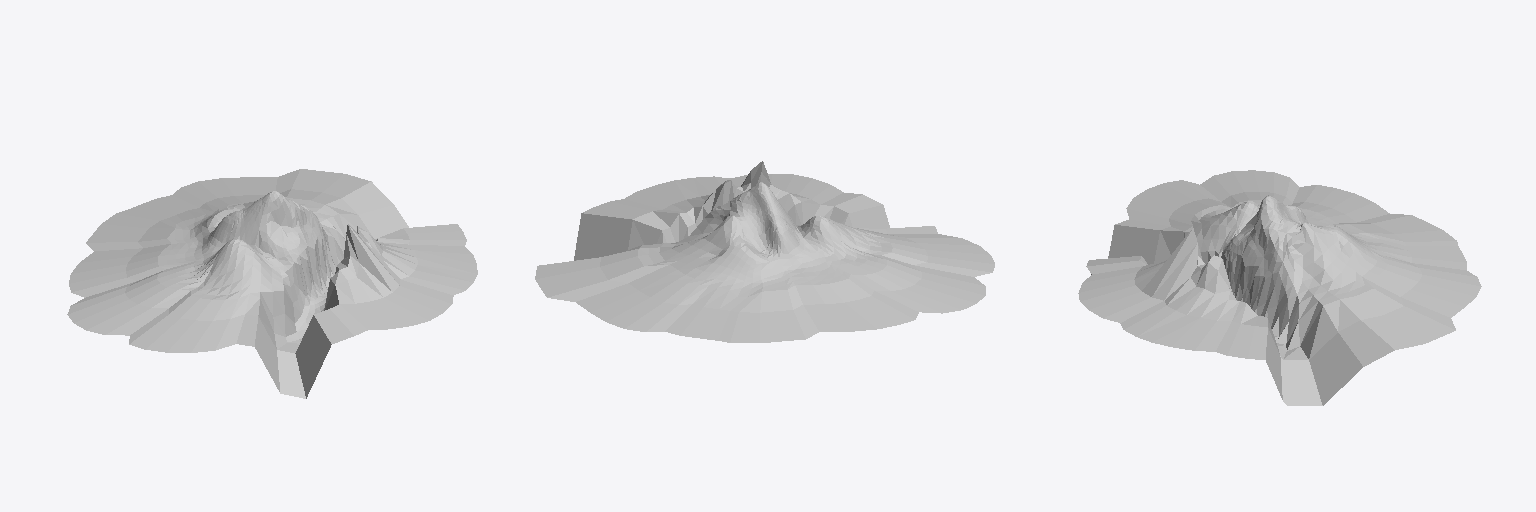
The model's file is island5.obj.
3 views of the same model, side by side, from view 1: azimuth 30°, elevation 25°; view 2: azimuth 150°, elevation 25°; view 3: azimuth 270°, elevation 25° (orthographic).
Parts seen in each view (by area): view 1: Icosphere; view 2: Icosphere; view 3: Icosphere.
Part boxes in pixels (left/top/right/bottom): Icosphere: left=67, top=169, right=477, bottom=398; Icosphere: left=535, top=161, right=994, bottom=342; Icosphere: left=1078, top=170, right=1481, bottom=405.
Size of the model in its own units: 9.65 by 3.1 by 8.62.